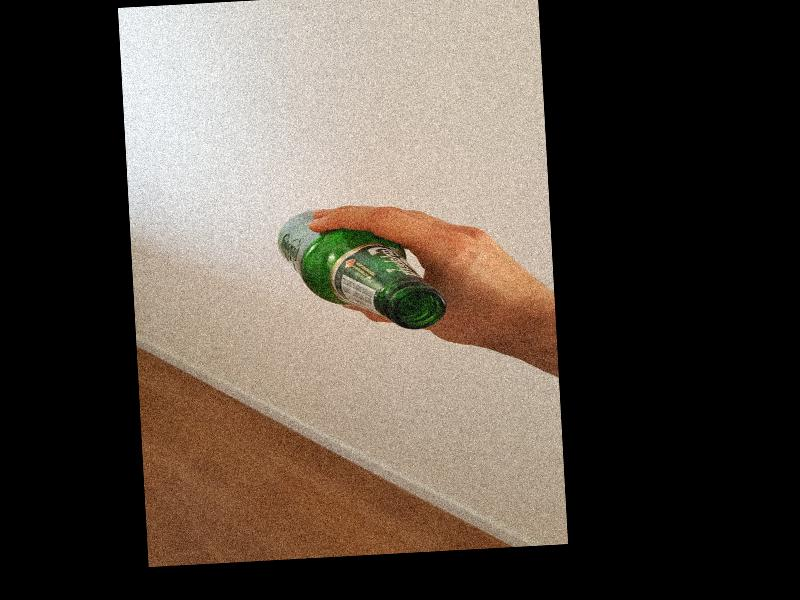Beer: (276, 205, 448, 339)
